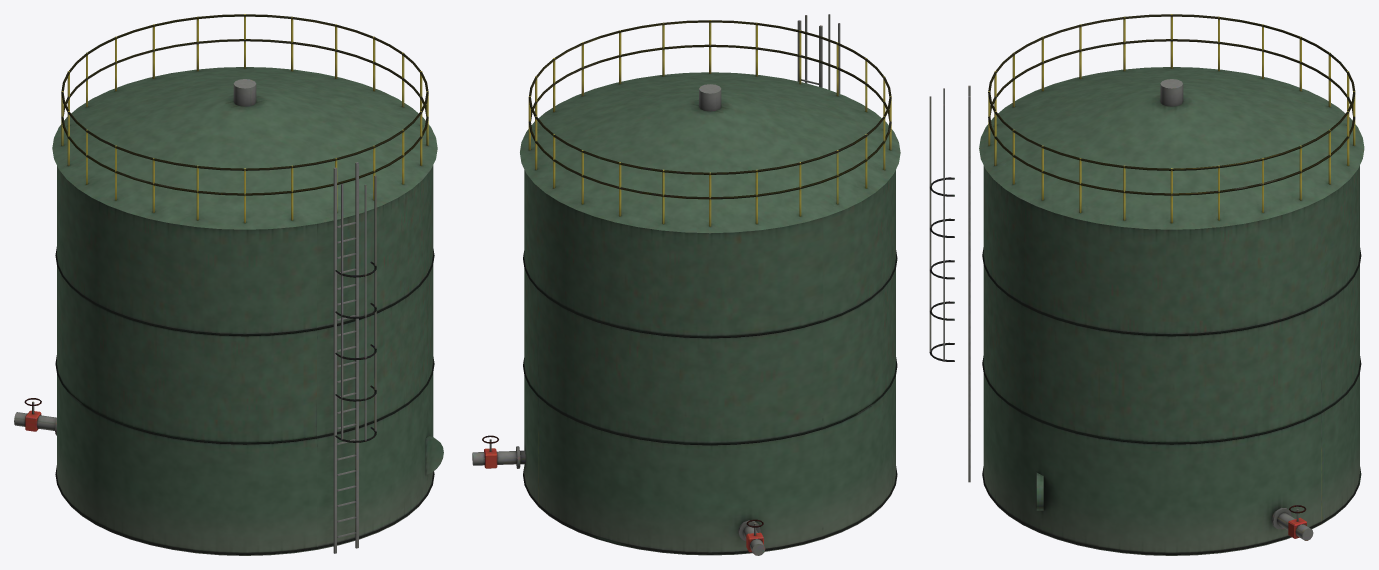
Rendered from fuel_tank_green.glb.
3 views of the same model, side by side, from view 1: azimuth 30°, elevation 25°; view 2: azimuth 150°, elevation 25°; view 3: azimuth 270°, elevation 25° (orthographic).
Visible parts, largest first — view 1: fuel_tank_green; view 2: fuel_tank_green; view 3: fuel_tank_green.
Boxes of the visible parts, x1=… form: fuel_tank_green: x1=14, y1=14, x2=443, y2=555; fuel_tank_green: x1=472, y1=14, x2=900, y2=555; fuel_tank_green: x1=929, y1=14, x2=1364, y2=555.
Size of the model in its own units: 6.93 by 7.6 by 7.63.
1 material, 1 textured.
